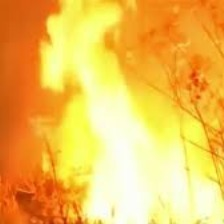incendio: (38, 16, 116, 107), (143, 107, 206, 190), (138, 37, 205, 105), (27, 107, 97, 169), (53, 147, 155, 188), (73, 47, 130, 109)
